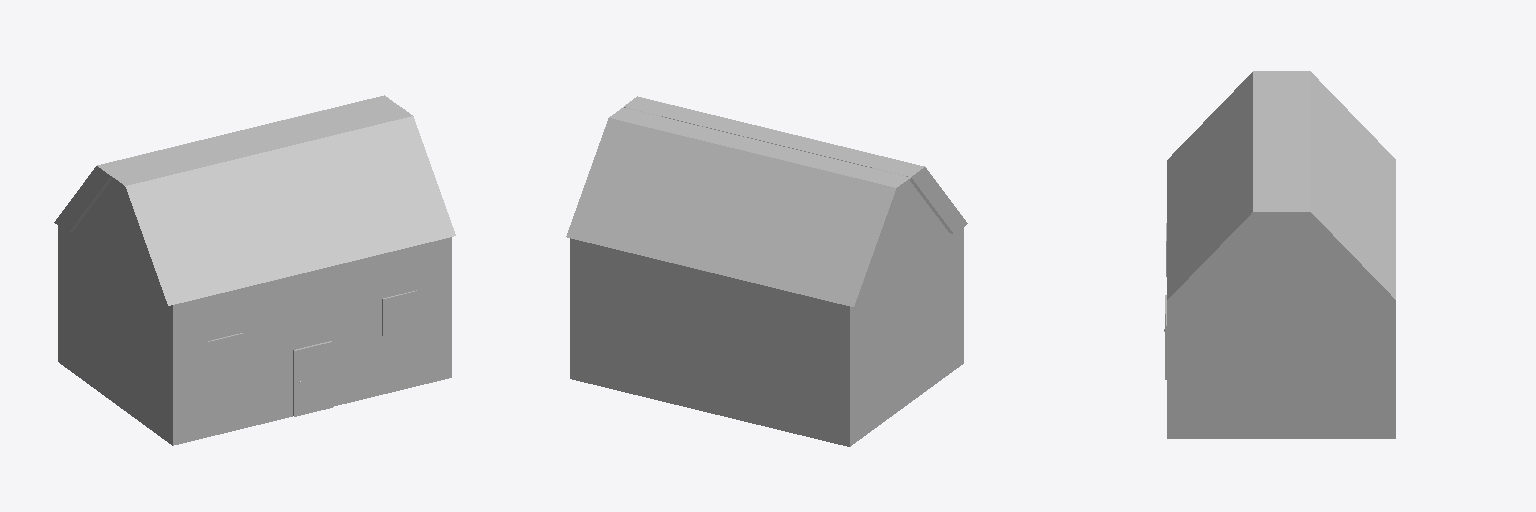
Rendered from house.obj.
3 views of the same model, side by side, from view 1: azimuth 30°, elevation 25°; view 2: azimuth 150°, elevation 25°; view 3: azimuth 270°, elevation 25° (orthographic).
Visible parts, largest first — view 1: Sphere, Cube.002_Cube.006, Cube_Cube.004; view 2: Sphere; view 3: Sphere.
Part boxes in pixels (bbox=[...]): Sphere: bbox=[54, 95, 455, 445]; Cube.002_Cube.006: bbox=[382, 290, 417, 335]; Cube_Cube.004: bbox=[208, 333, 242, 378]; Sphere: bbox=[566, 96, 967, 446]; Sphere: bbox=[1164, 71, 1395, 438].
Size of the model in its own units: 16.47 by 12.54 by 11.49.